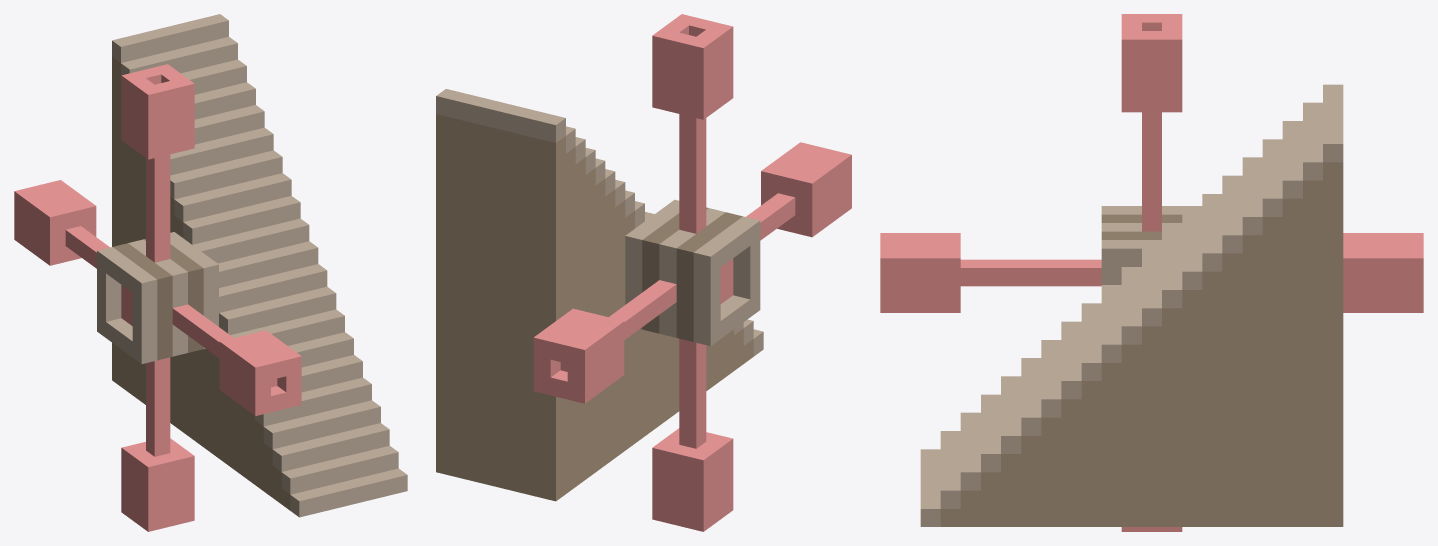
Rendered from stair.obj.
3 views of the same model, side by side, from view 1: azimuth 30°, elevation 25°; view 2: azimuth 150°, elevation 25°; view 3: azimuth 270°, elevation 25° (orthographic). The views are drawn at different scales.
Visible parts, largest first — view 1: stair; view 2: stair; view 3: stair.
Boxes of the visible parts, bbox=[...] form: stair: bbox=[14, 14, 407, 531]; stair: bbox=[436, 14, 851, 531]; stair: bbox=[880, 14, 1423, 531].
Bounding box in the file's own units: 1.2 × 2.7 × 2.7.
